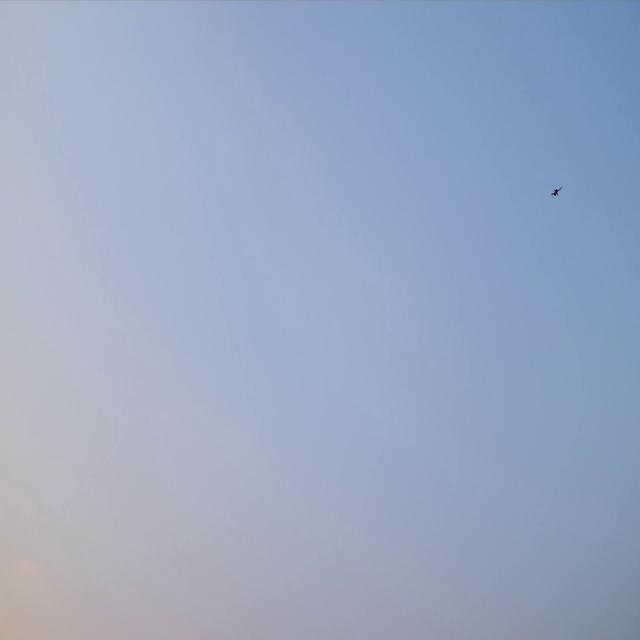UAV: (550, 185, 564, 198)
